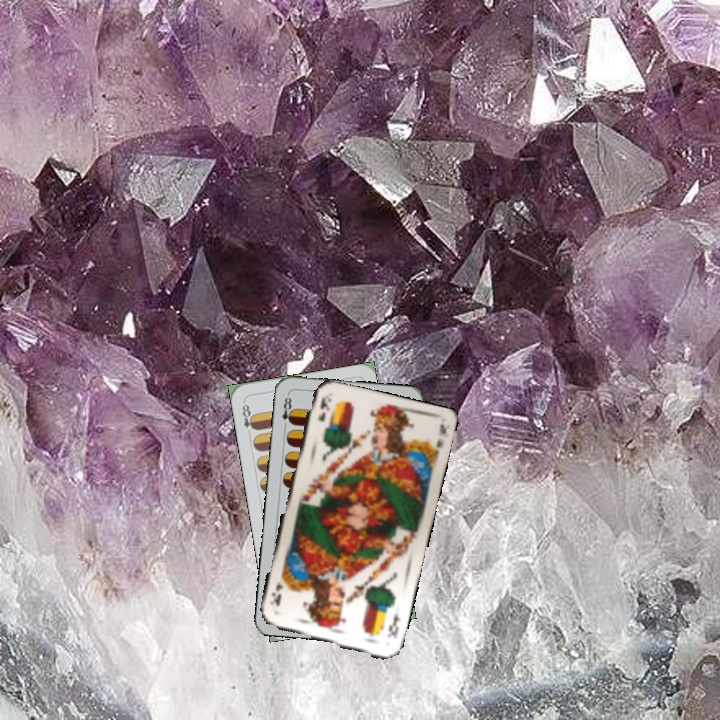E8: (238, 397, 258, 438), (278, 390, 296, 431)
EK: (383, 609, 403, 641), (314, 393, 332, 423)
